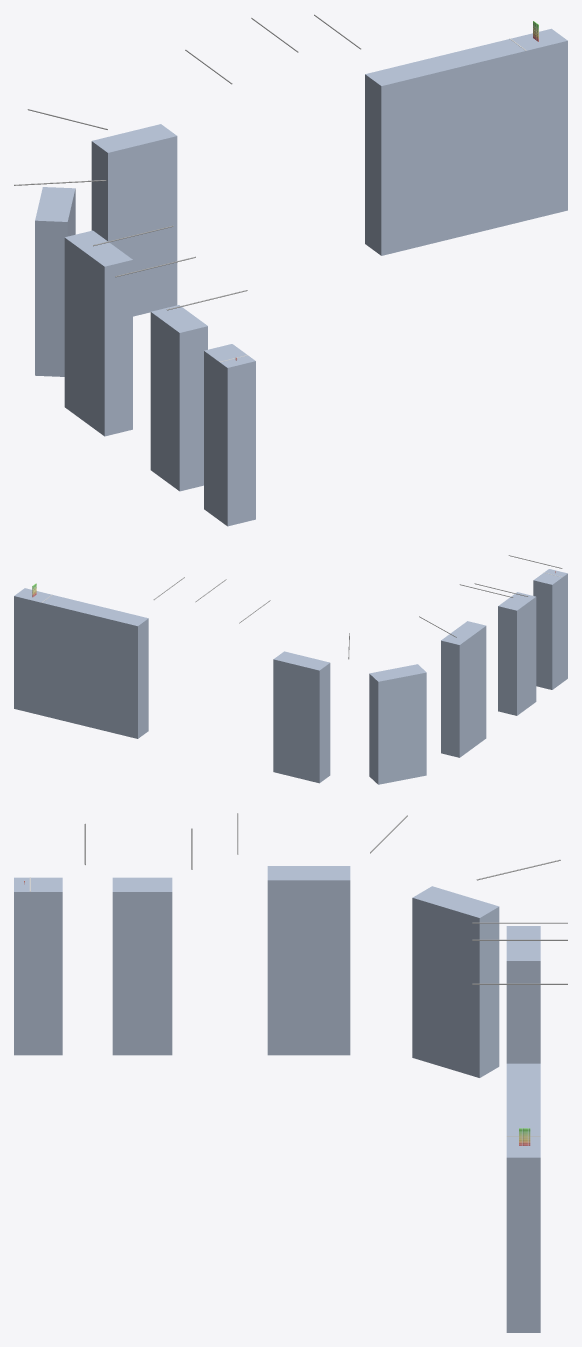
The model's file is environment character camera.fbx.
3 views of the same model, one above another, from view 1: azimuth 30°, elevation 25°; view 2: azimuth 150°, elevation 25°; view 3: azimuth 270°, elevation 25° (orthographic). The views are drawn at different scales.
Parts seen in each view (by area): view 1: pCube6, pCube3, pCube5, pCube2, pCube1, pCube4; view 2: pCube6, pCube5, pCube4, pCube3, pCube2, pCube1; view 3: pCube3, pCube4, pCube2, pCube6, pCube1, pCube5.
Boxes of the visible parts, x1,y1,x2,y2 form: pCube6: [365, 28, 567, 255]; pCube3: [64, 230, 132, 436]; pCube5: [91, 124, 177, 316]; pCube2: [150, 305, 207, 491]; pCube1: [204, 344, 255, 526]; pCube4: [35, 187, 75, 376]; pCube6: [14, 588, 148, 738]; pCube5: [273, 651, 330, 783]; pCube4: [369, 664, 426, 784]; pCube3: [441, 621, 486, 757]; pCube2: [498, 592, 536, 715]; pCube1: [533, 569, 567, 689]; pCube3: [267, 866, 350, 1055]; pCube4: [412, 886, 499, 1077]; pCube2: [112, 877, 172, 1055]; pCube6: [506, 1063, 540, 1332]; pCube1: [14, 877, 62, 1055]; pCube5: [506, 926, 540, 1063].
Size of the model in its own units: 33854 by 12884 by 26005.
